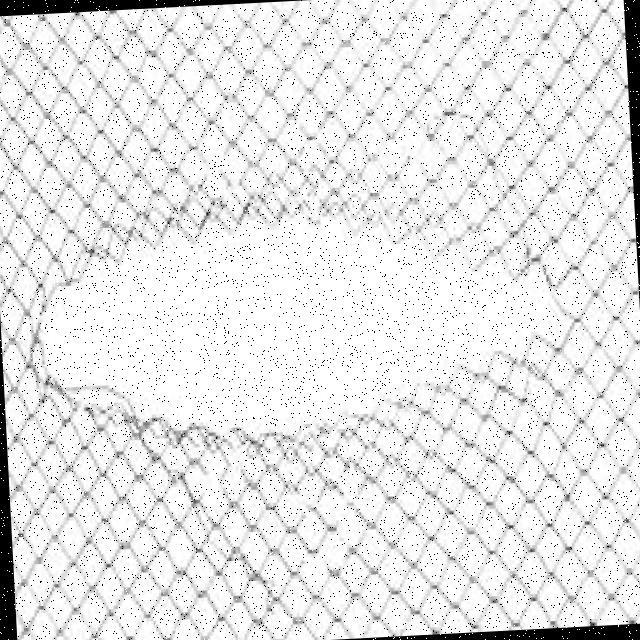fence line: (20, 134, 591, 502)
